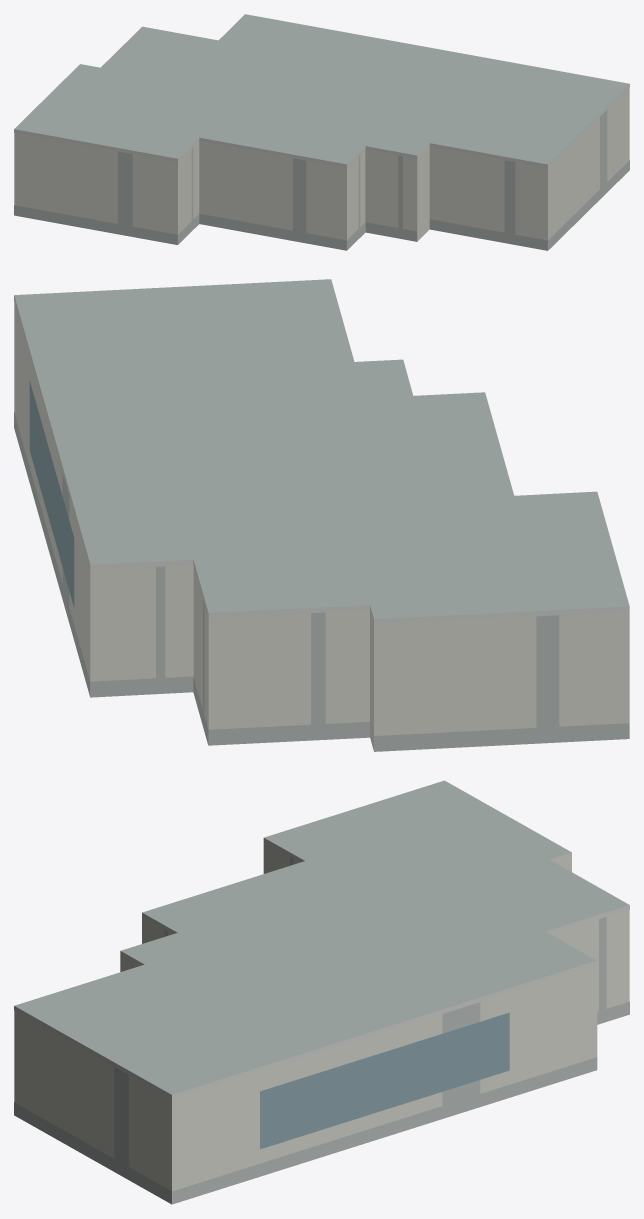
The model's file is residential-7e7c9a8f-7f60-4197-9498-94586e47d3fb.glb.
3 views of the same model, one above another, from view 1: azimuth 30°, elevation 25°; view 2: azimuth 150°, elevation 25°; view 3: azimuth 270°, elevation 25° (orthographic). The views are drawn at different scales.
Visible parts, largest first — view 1: residential-7e7c9a8f-7f60-4197-9498-94586e47d3fb.tmp; view 2: residential-7e7c9a8f-7f60-4197-9498-94586e47d3fb.tmp; view 3: residential-7e7c9a8f-7f60-4197-9498-94586e47d3fb.tmp.
Boxes of the visible parts, box(x1,y1,x2,y2) form: residential-7e7c9a8f-7f60-4197-9498-94586e47d3fb.tmp: box(14, 14, 629, 250); residential-7e7c9a8f-7f60-4197-9498-94586e47d3fb.tmp: box(14, 279, 629, 751); residential-7e7c9a8f-7f60-4197-9498-94586e47d3fb.tmp: box(14, 780, 629, 1204).
Bounding box in the file's own units: 18.8 × 3.05 × 15.55.
